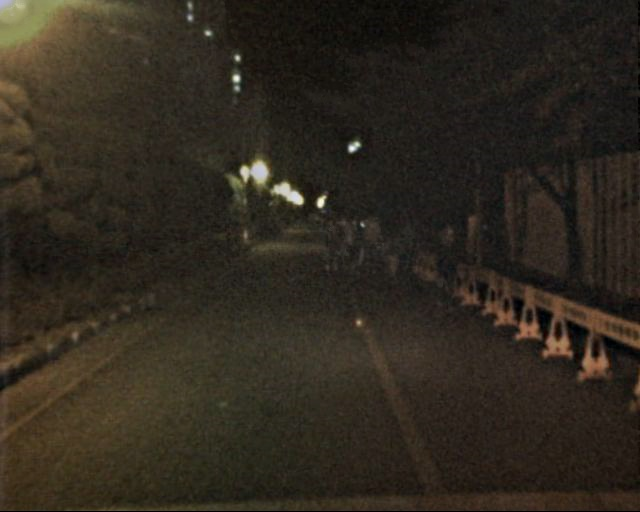person: (426, 225, 463, 315), (397, 217, 422, 277), (359, 213, 383, 271), (318, 217, 341, 272), (336, 216, 358, 270), (382, 227, 403, 278), (348, 220, 366, 264)
